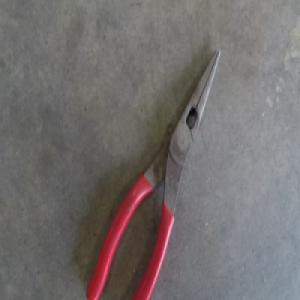Pliers: (83, 49, 221, 299)
